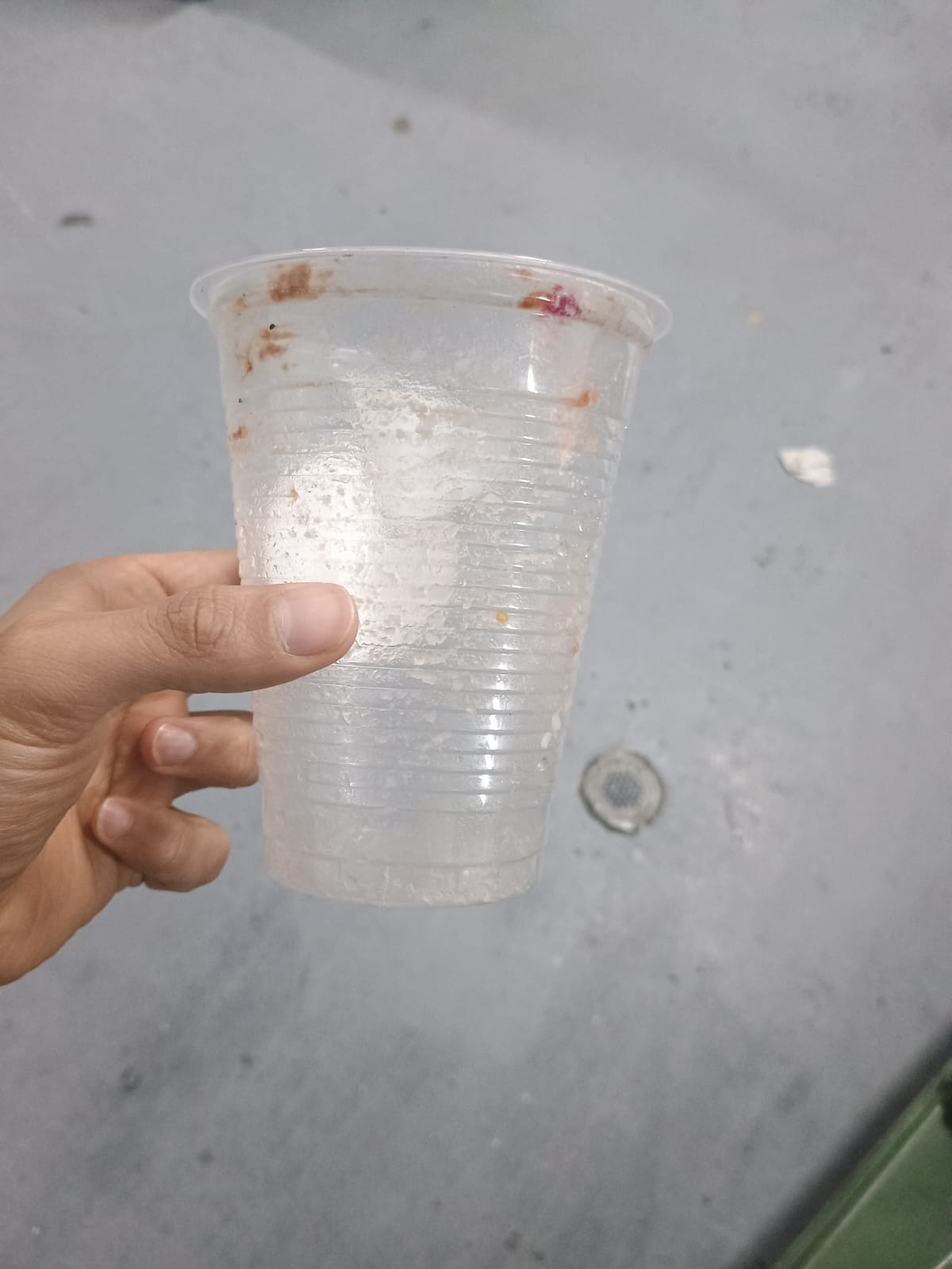Plastico: (186, 246, 667, 911)
